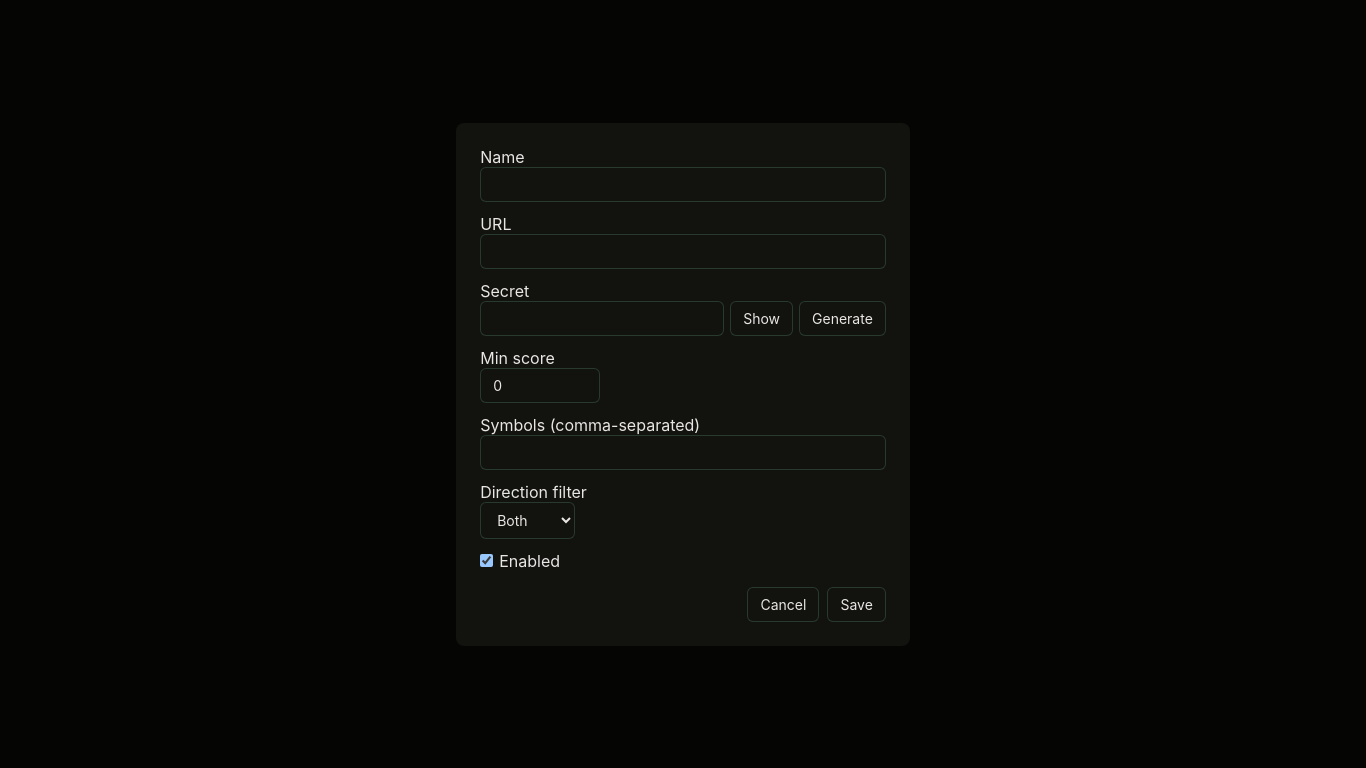
Test case: PluginEditModal › Generate falls back with manual-copy toast when clipboard rejects
Click the button "Generate": (842, 318) [799,300,886,336]
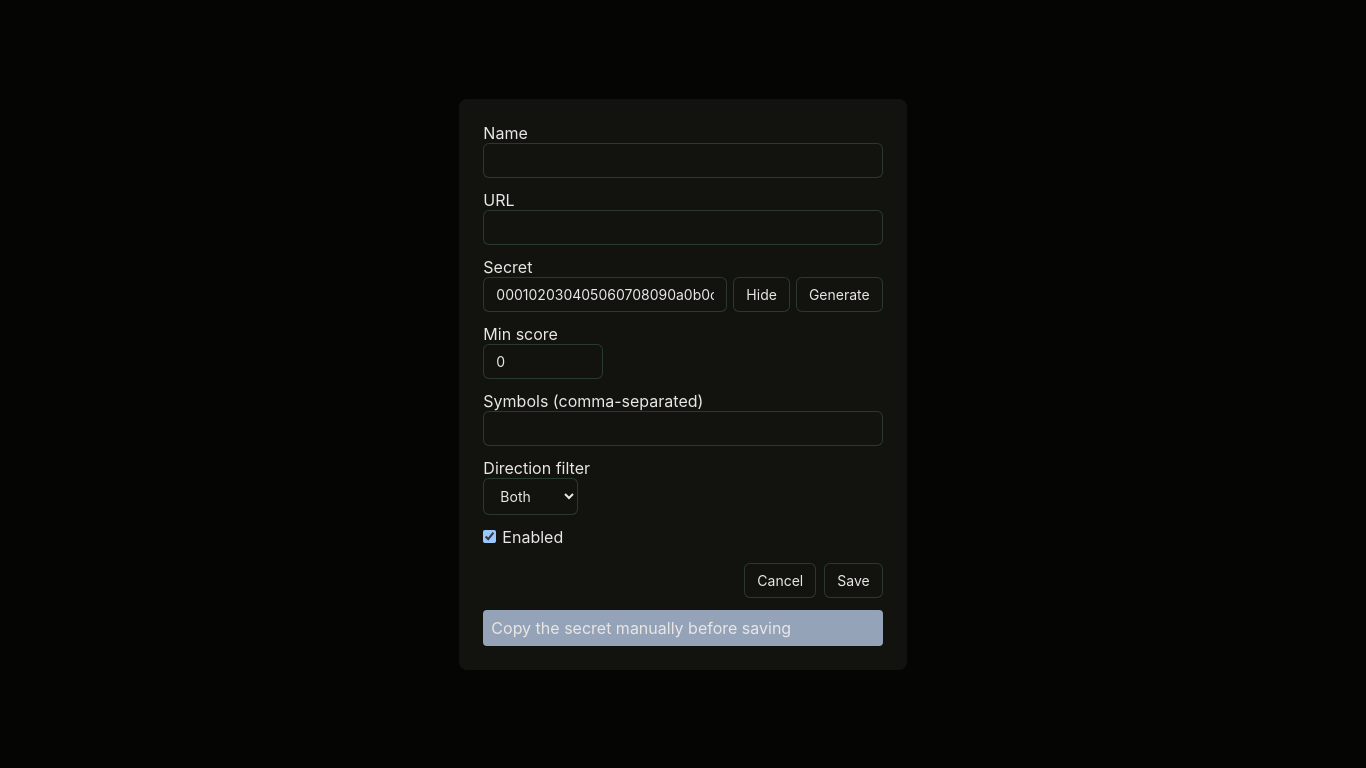
Result: the text "Copy the secret manually before saving" is shown at [483,610,883,646]
